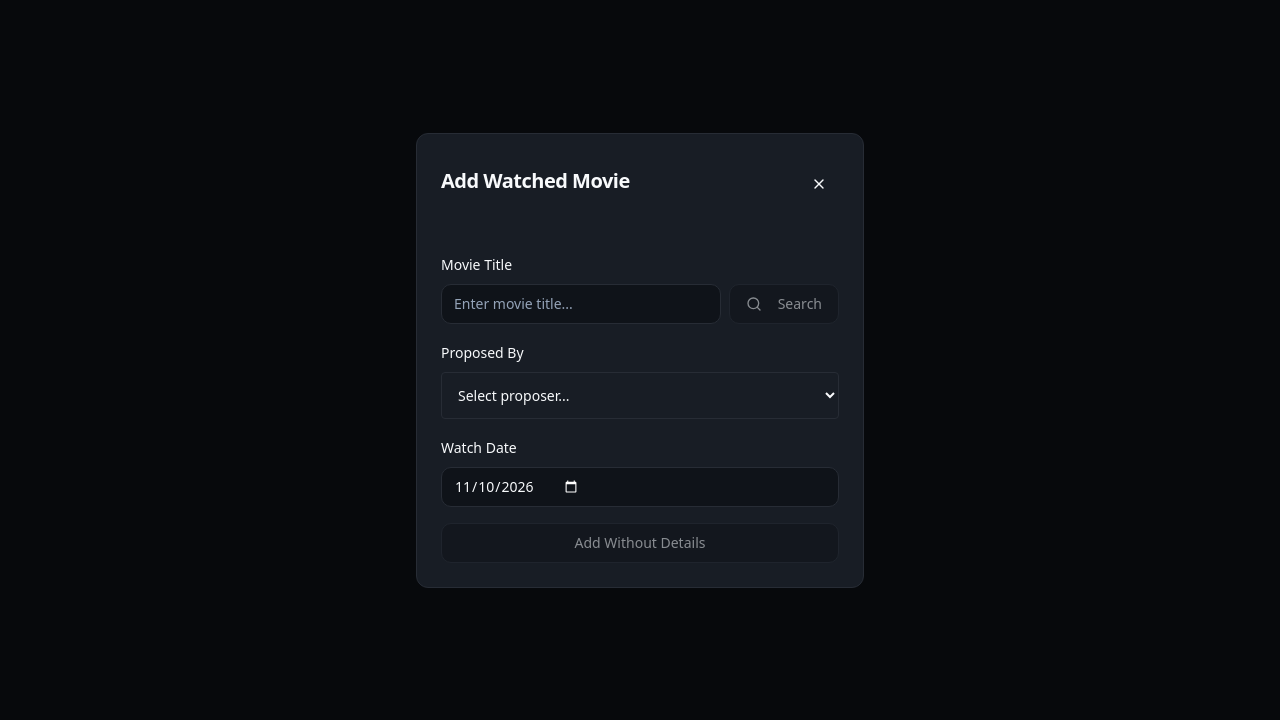
Scenario: AddMovieDialog › warns about a matching proposal and moves it with its pre-watch ratings
Later steps or results of the test are not shown.
Type "  ISLE  OF DOGS " into the field labelled "Movie Title". click: (581, 304)
box: [441,284,721,324]
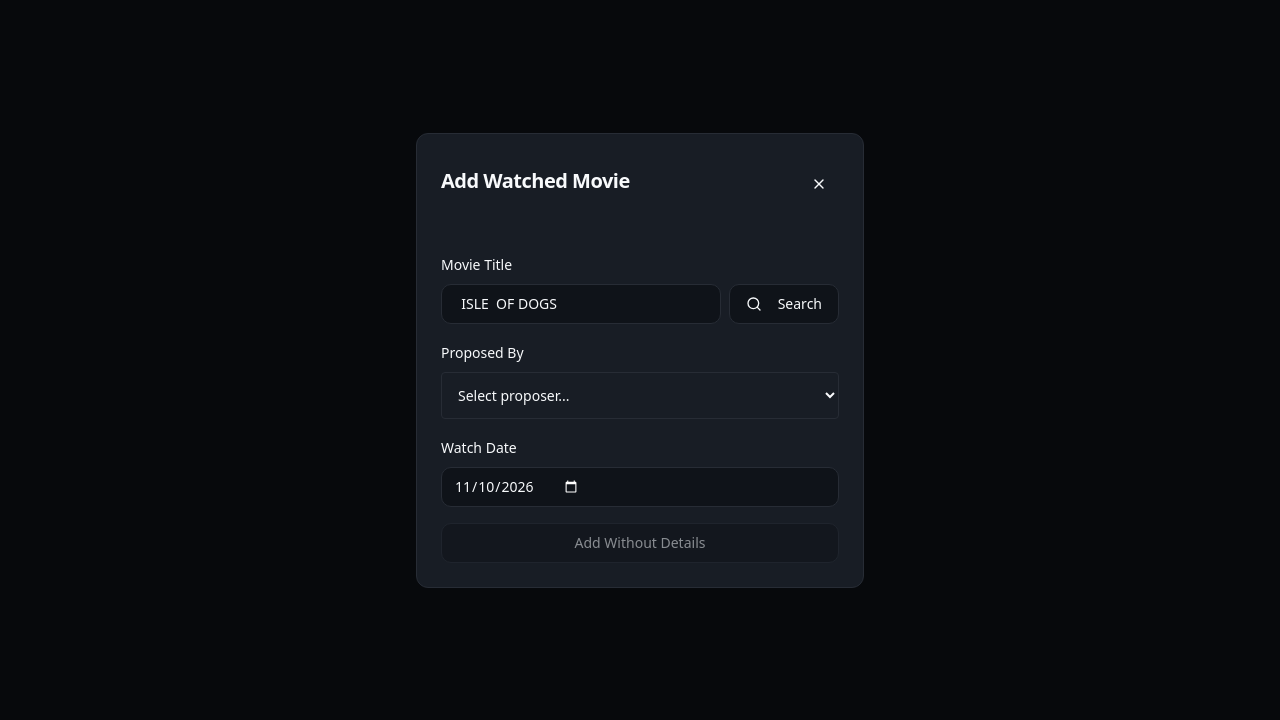
Select "Bob" in the dropdown labelled "Proposed By". click: (640, 395)
box: [441,372,839,418]
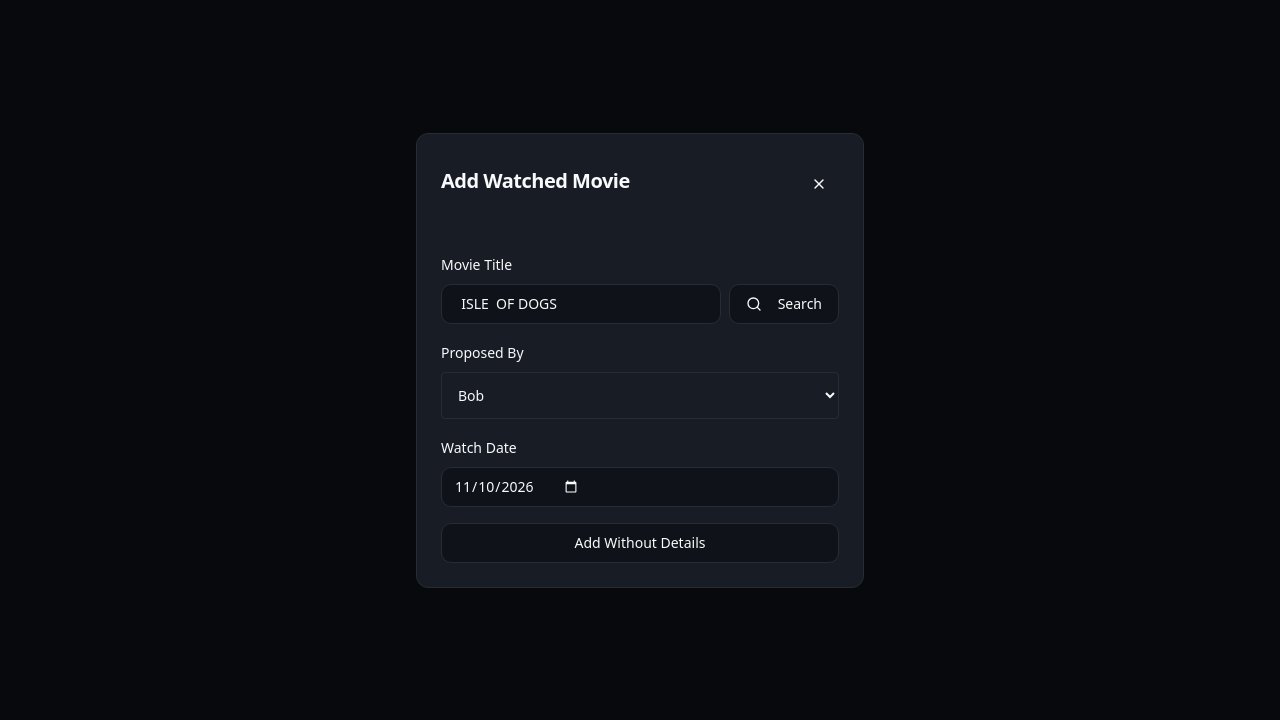
Click the button "Add Without Details". click: (640, 542)
box: [441,522,839,562]
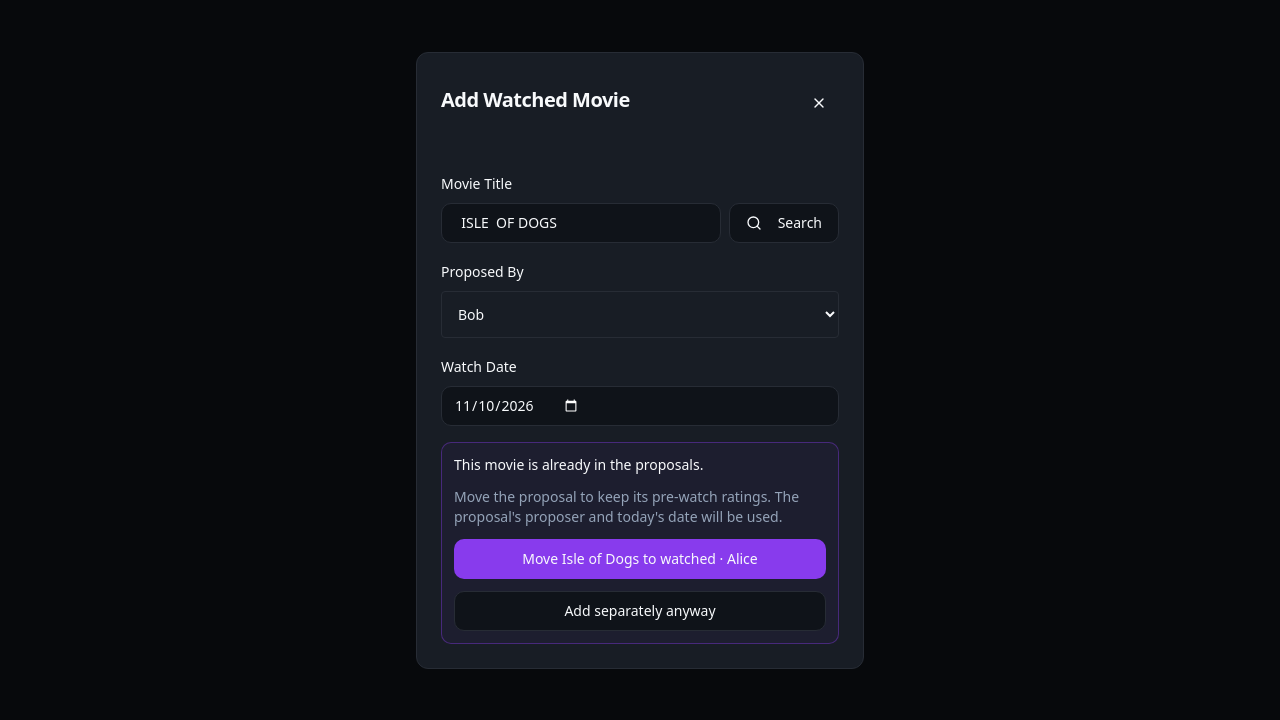
Expected: the message shows "already in the proposals", [454,454,703,474]
